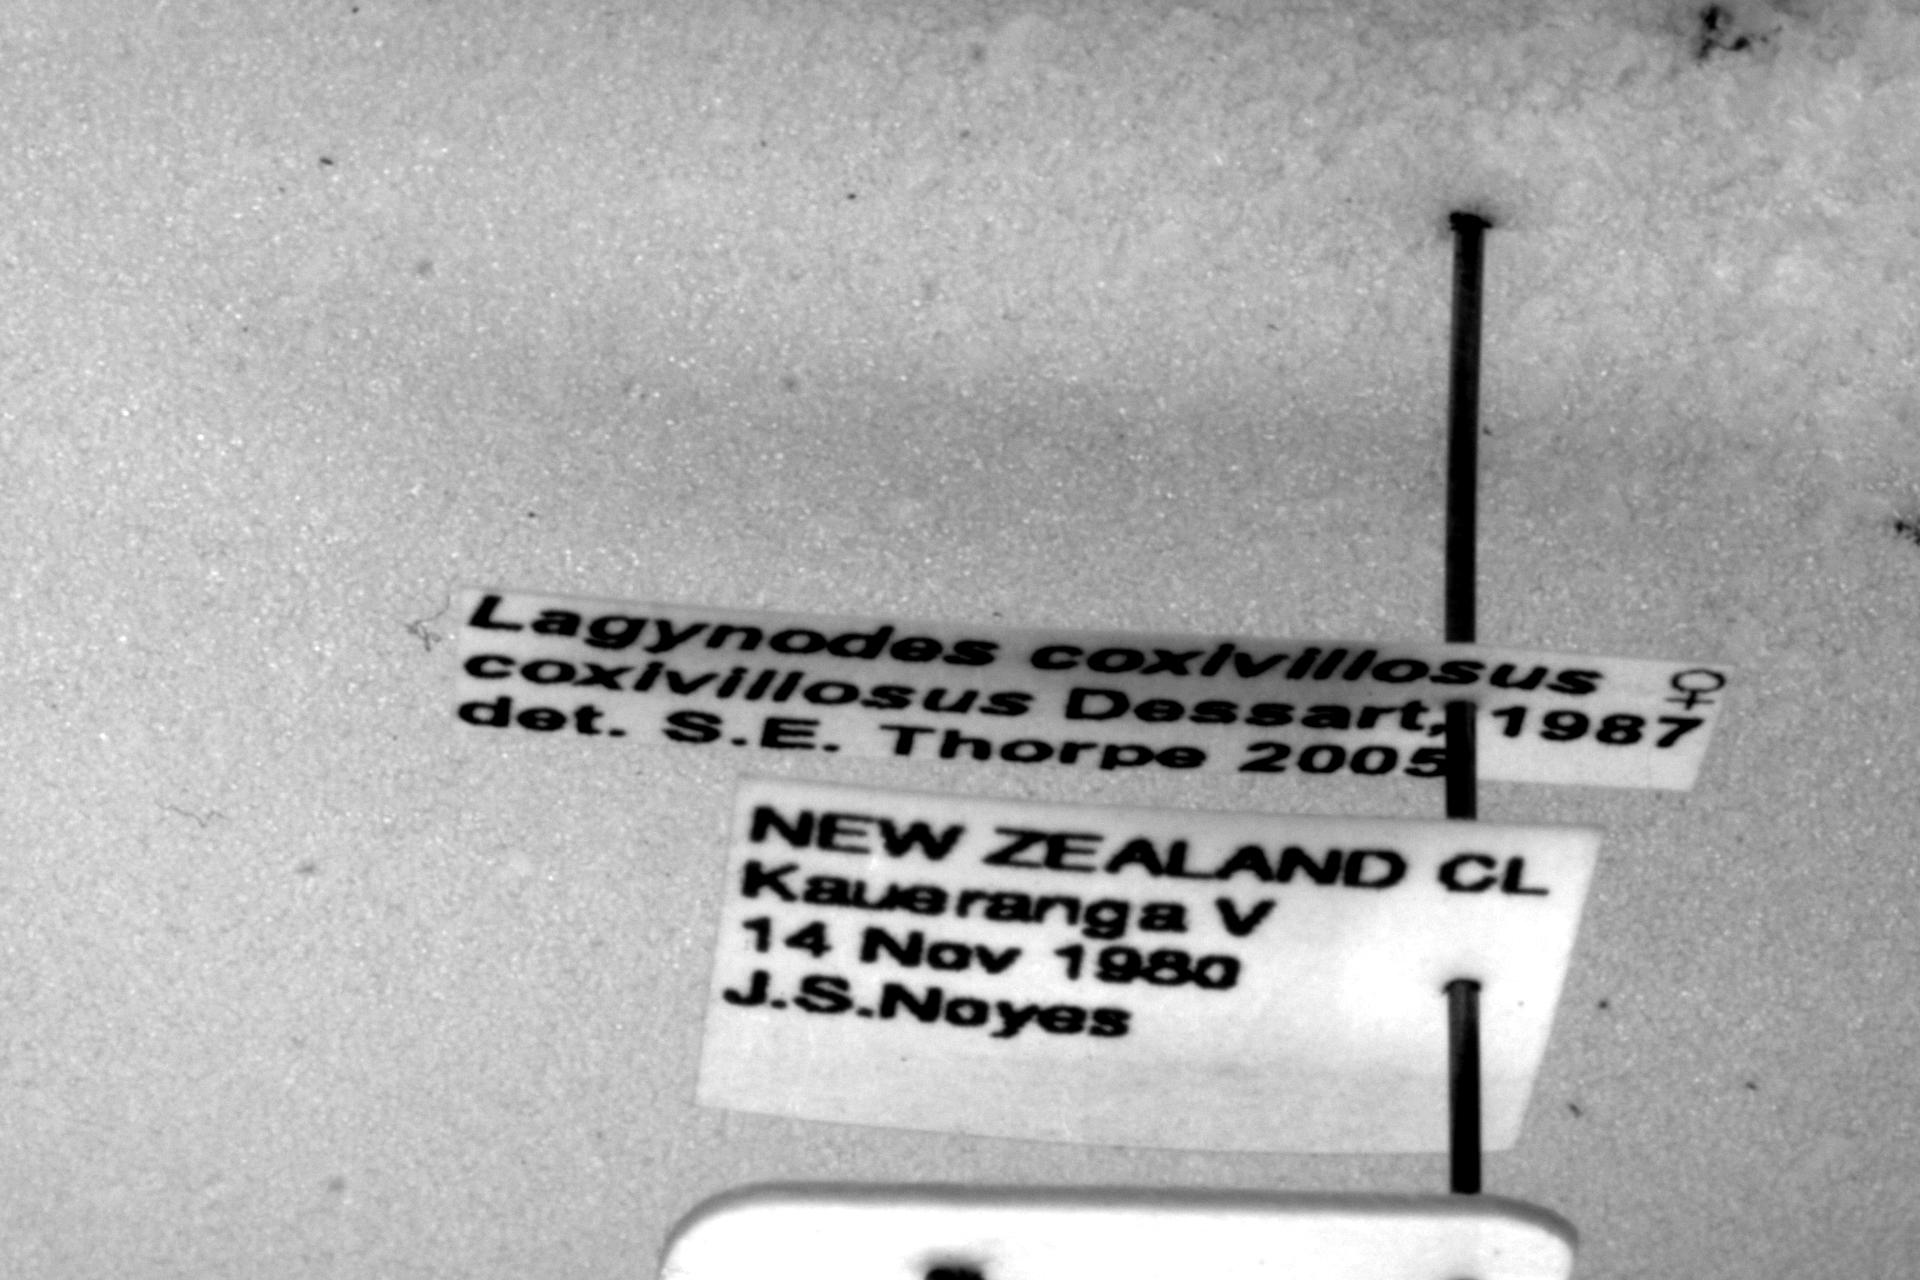typed_label: (697, 780, 1601, 1151), (454, 589, 1729, 791)
